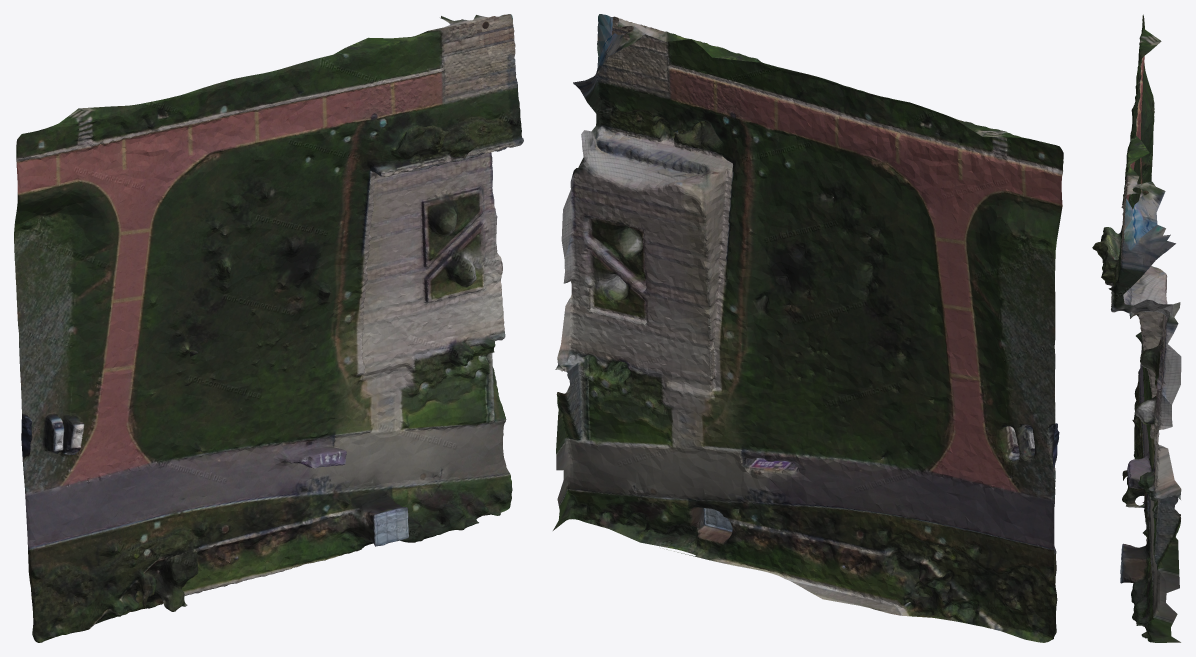
File: Tile_+006_+004.obj
The picture shows the model from 3 angles, left to right: view 1: azimuth 30°, elevation 25°; view 2: azimuth 150°, elevation 25°; view 3: azimuth 270°, elevation 25°; orthographic projection. The views are drawn at different scales.
Parts seen in each view (by area): view 1: Mesh; view 2: Mesh; view 3: Mesh.
Boxes of the visible parts, x1,y1,x2,y2 form: Mesh: [14, 14, 523, 642]; Mesh: [553, 14, 1063, 642]; Mesh: [1092, 14, 1181, 642].
Bounding box in the file's own units: 61.58 × 61.53 × 11.19.
1 material, 1 textured.
